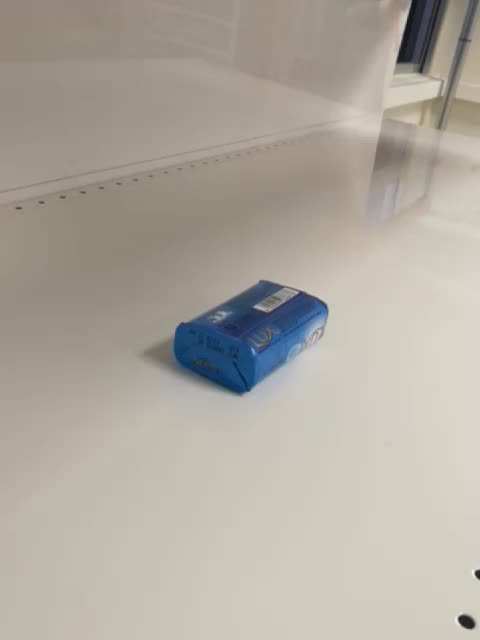soap: (171, 279, 330, 398)
